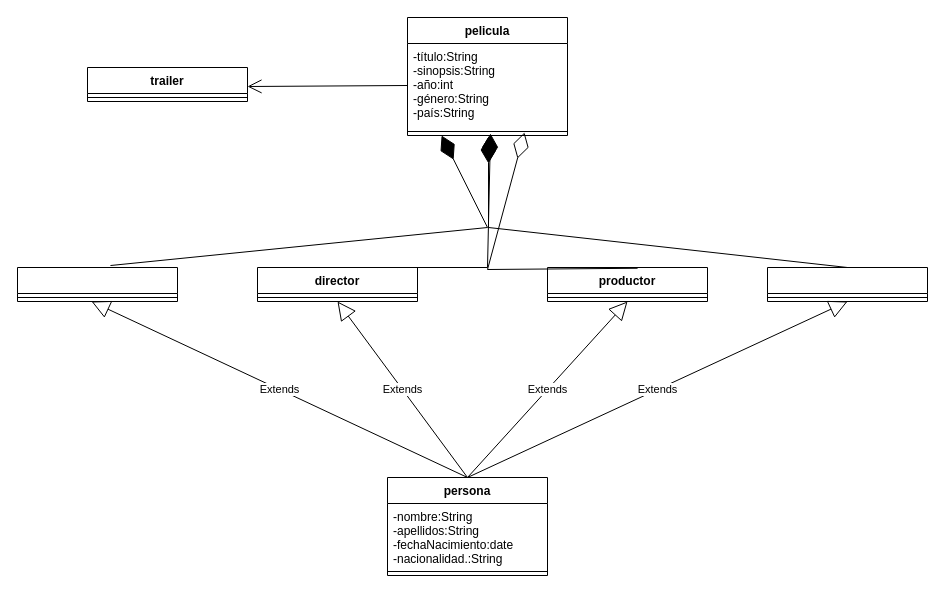
Image size: 945x593. Some labels were removed from this diagram. Each missing label, with the centre of its shape:
"actor" goes at [97,284].
"guionista" goes at [847,284].
